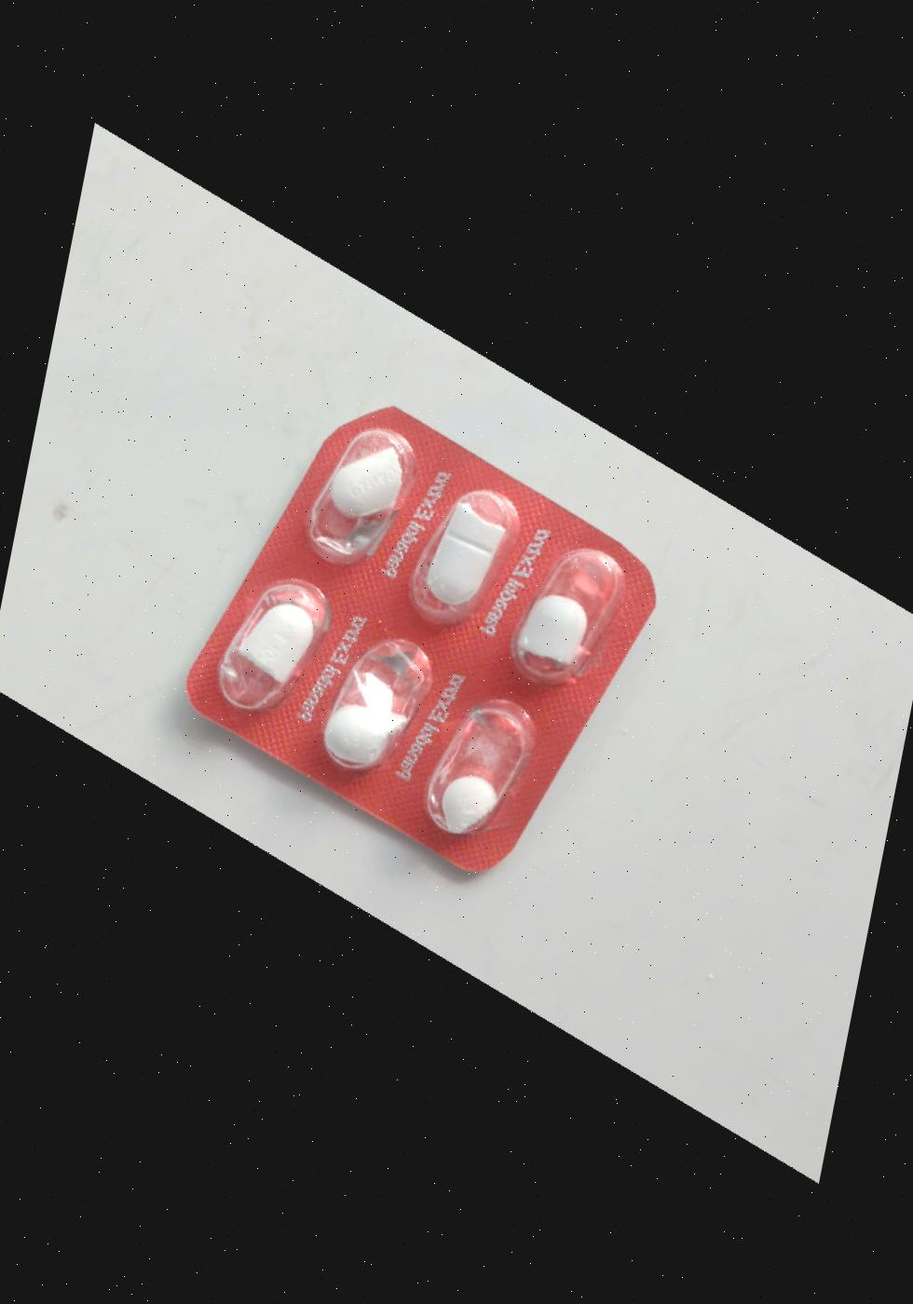Partial: (377, 455, 544, 643), (296, 605, 463, 792), (180, 557, 347, 744), (393, 678, 560, 865), (496, 526, 662, 713), (283, 397, 449, 584)
